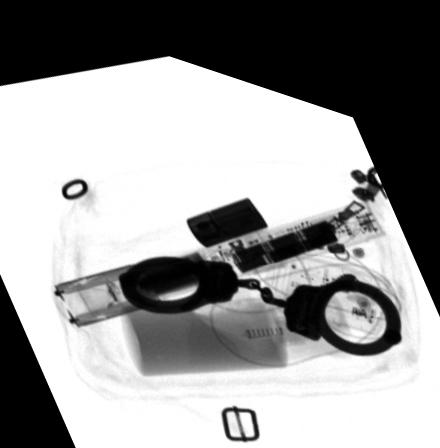Baton: (52, 175, 385, 322)
HandCuffs: (115, 244, 404, 334)
Lighter: (183, 180, 268, 234)
